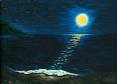moon: (74, 13, 90, 28)
